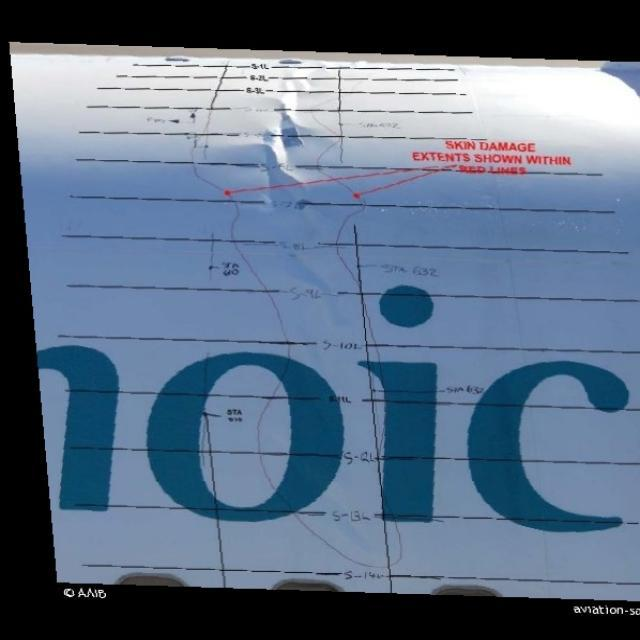dent: (208, 56, 338, 202), (274, 254, 354, 334)
